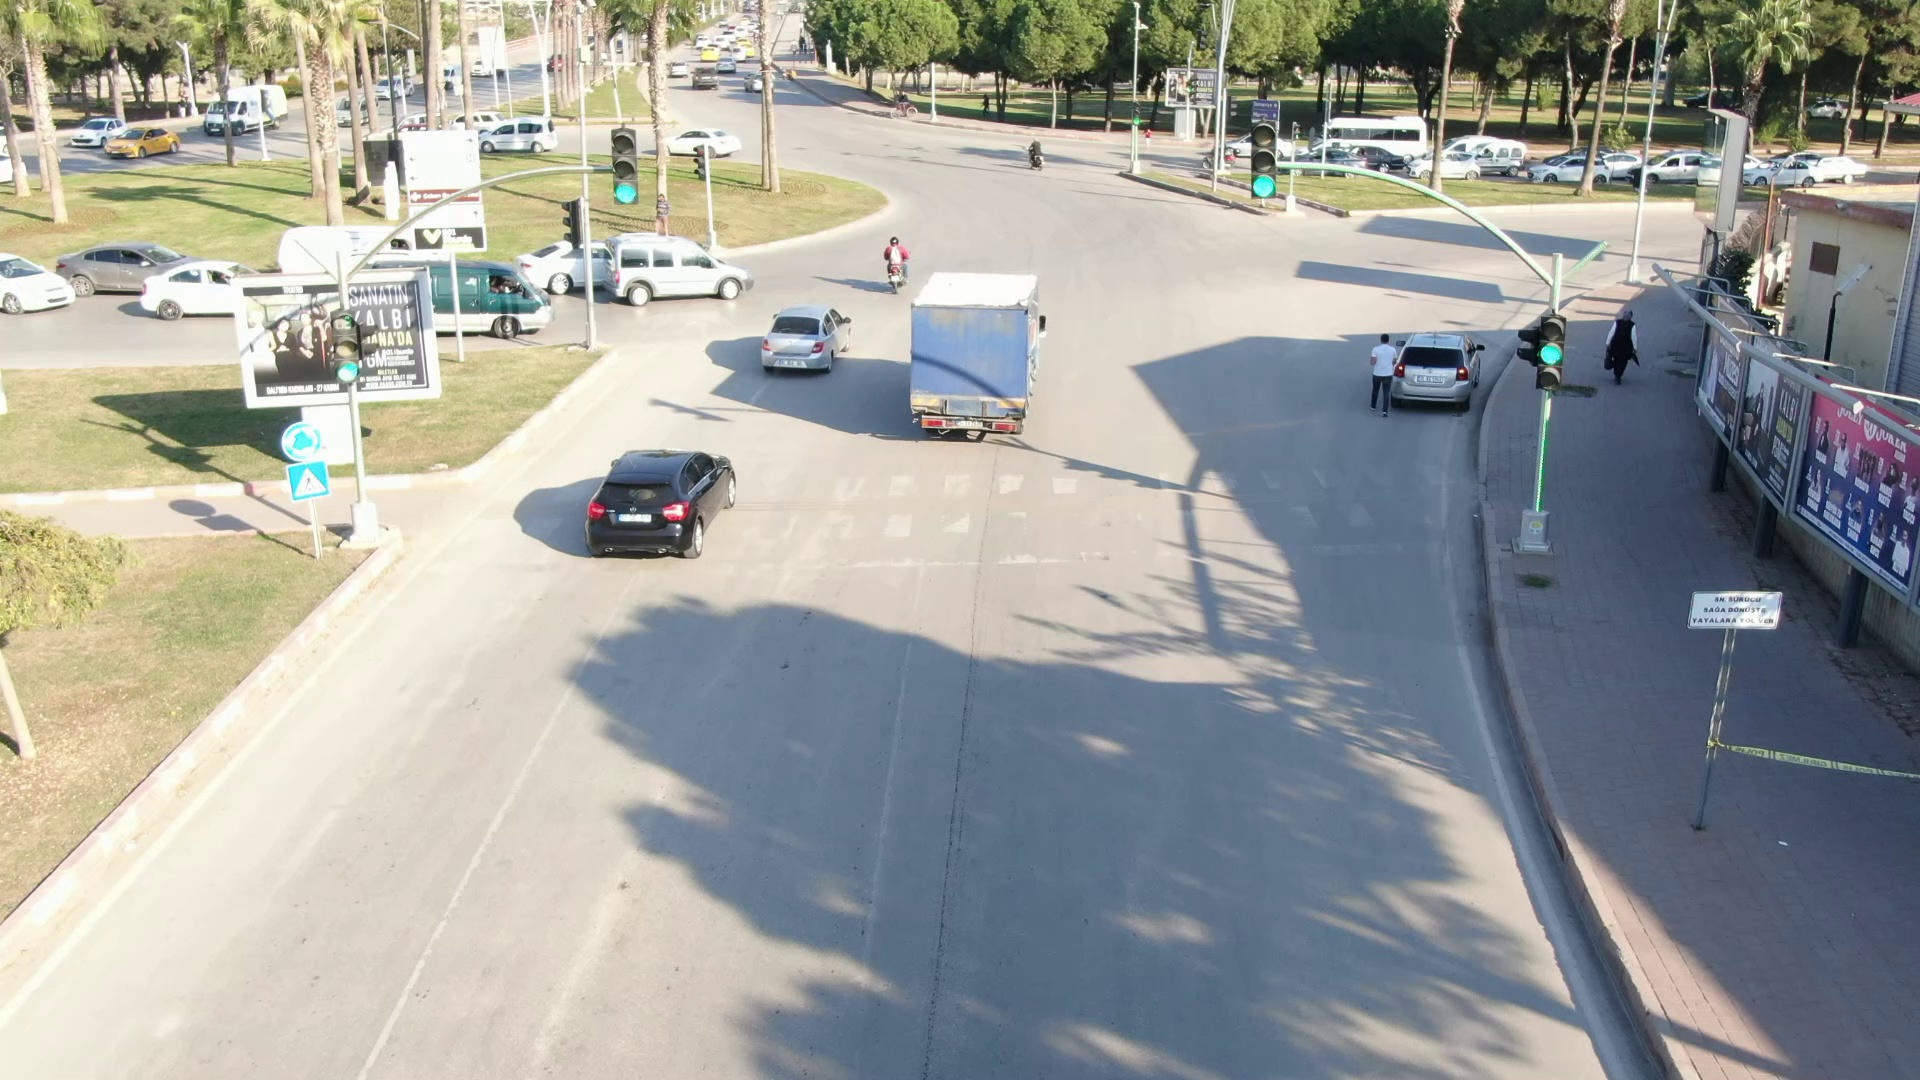car: (578, 425, 748, 575), (604, 221, 759, 312), (431, 248, 563, 341), (750, 298, 871, 388), (47, 230, 196, 301), (64, 105, 182, 161), (197, 77, 290, 139), (653, 120, 743, 166), (476, 114, 567, 158), (1522, 147, 1614, 190)
person: (1358, 319, 1403, 423), (1599, 303, 1650, 388)
